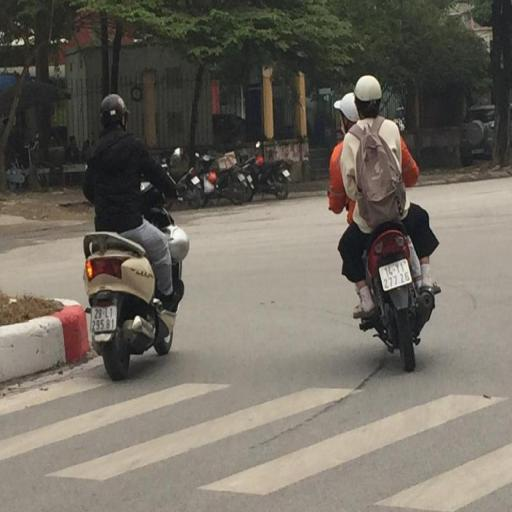bike: (326, 76, 443, 371), (81, 91, 190, 382)
numberplate: (376, 256, 412, 294), (89, 306, 119, 332)
with helmet: (97, 92, 131, 130), (332, 92, 360, 123), (354, 76, 383, 102)
